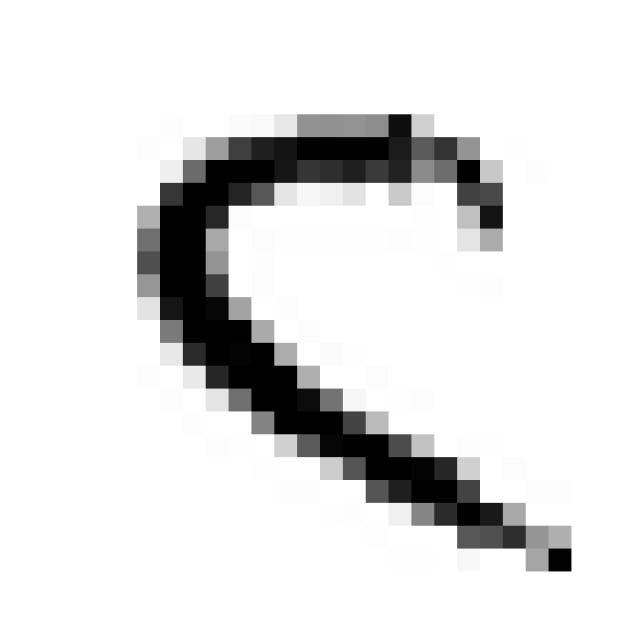2 -two-: (119, 98, 589, 594)
